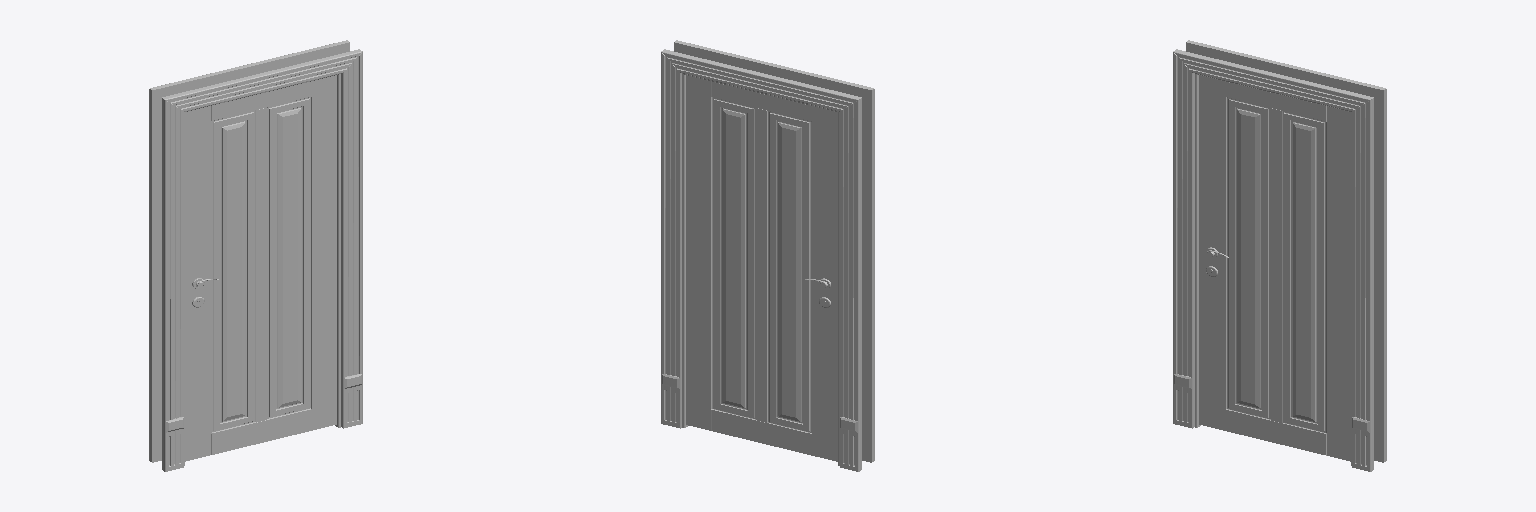
3 renders of one model, left to right at view 1: azimuth 30°, elevation 25°; view 2: azimuth 150°, elevation 25°; view 3: azimuth 330°, elevation 25°, orthographic.
Visible parts, largest first — view 1: Door_N060119; view 2: Door_N060119; view 3: Door_N060119.
Boxes of the visible parts, x1,y1,x2,y2 form: Door_N060119: [149, 40, 362, 471]; Door_N060119: [661, 40, 874, 471]; Door_N060119: [1173, 40, 1386, 471].
Size of the model in its own units: 1.62 by 2.91 by 0.2494.